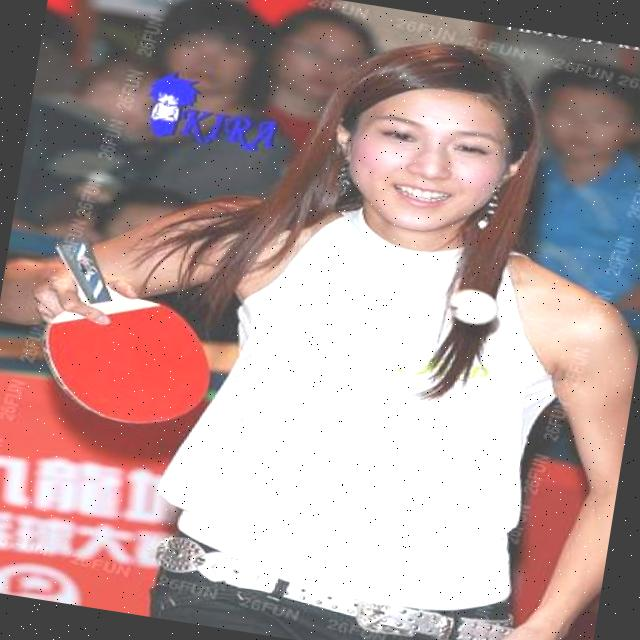ping-pong-ball: (444, 284, 503, 328)
